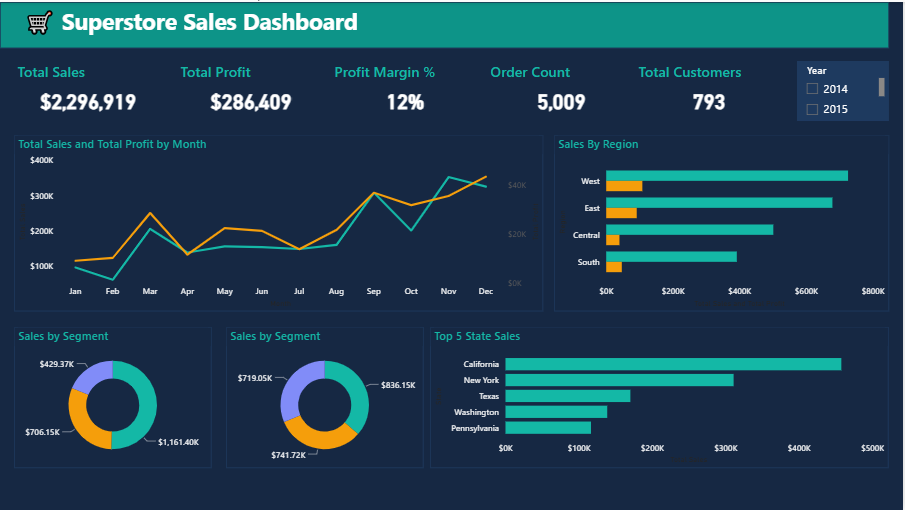

The page's visual inventory and layout, read from the dashboard file:
{"tool":"powerbi","page":{"name":"Executive Summary","canvas":[1280,720],"ordinal":0},"visuals":[{"type":"card","title":"Total Sales","fields":{"Values":["Superstore.Total Sales"]},"box":[20,84.2,210,85],"z":0},{"type":"card","title":"Order Count","fields":{"Values":["Superstore.Order Count"]},"box":[690.7,84.2,210,85],"z":1000},{"type":"card","title":"Profit Margin %","fields":{"Values":["Superstore.Profit Margin %"]},"box":[469.5,84.2,210,85],"z":2000},{"type":"card","title":"Total Profit","fields":{"Values":["Superstore.Total Profit"]},"box":[251.1,84.2,210,85],"z":3000},{"type":"card","title":"Total Customers","fields":{"Values":["Superstore.Total Customers"]},"box":[900.4,84.2,210,85],"z":4000},{"type":"slicer","fields":{"Values":["DateTable.Year"]},"box":[1130.2,84.2,130,85],"z":5000},{"type":"lineChart","fields":{"Category":["DateTable.Month"],"Y":["Superstore.Total Sales"],"Y2":["Superstore.Total Profit"]},"box":[20,188.4,750,250],"z":6000},{"type":"clusteredBarChart","title":"Sales By Region","fields":{"Category":["Superstore.Region"],"Y":["Superstore.Total Sales","Superstore.Total Profit"]},"box":[784.8,188.4,475,250],"z":7000},{"type":"donutChart","title":"Sales by Segment","fields":{"Category":["Superstore.Segment"],"Y":["Superstore.Total Sales"]},"box":[20,460.9,280,200],"z":8000},{"type":"donutChart","title":"Sales by Segment","fields":{"Category":["Superstore.Category"],"Y":["Superstore.Total Sales"]},"box":[319.6,460.9,280,200],"z":9000},{"type":"clusteredBarChart","title":"Top 5 State Sales","fields":{"Category":["Superstore.State"],"Y":["Superstore.Total Sales"]},"box":[609.3,460.9,650,200],"z":10000},{"type":"shape","box":[0,0,1260,65.6],"z":11000},{"type":"textbox","box":[30,0,545.1,65.6],"z":12000}]}

Visuals, with their boxes in screenshot pixels (x1, y1, x2, y2), scaled from the page's 1280x720 canvas onto the 905x510 screenshot:
"Total Sales" card: <region>14, 60, 163, 120</region>
"Order Count" card: <region>488, 60, 637, 120</region>
"Profit Margin %" card: <region>332, 60, 480, 120</region>
"Total Profit" card: <region>178, 60, 326, 120</region>
"Total Customers" card: <region>637, 60, 785, 120</region>
slicer - DateTable.Year: <region>799, 60, 891, 120</region>
lineChart - DateTable.Month x Superstore.Total Sales: <region>14, 133, 544, 311</region>
"Sales By Region" clusteredBarChart: <region>555, 133, 891, 311</region>
"Sales by Segment" donutChart: <region>14, 326, 212, 468</region>
"Sales by Segment" donutChart: <region>226, 326, 424, 468</region>
"Top 5 State Sales" clusteredBarChart: <region>431, 326, 890, 468</region>
shape: <region>0, 0, 891, 46</region>
textbox: <region>21, 0, 407, 46</region>
